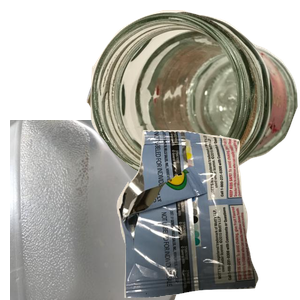glass: (90, 10, 300, 184)
metal: (84, 53, 279, 202)
plastic: (10, 120, 190, 300)
trash: (114, 130, 300, 300)
